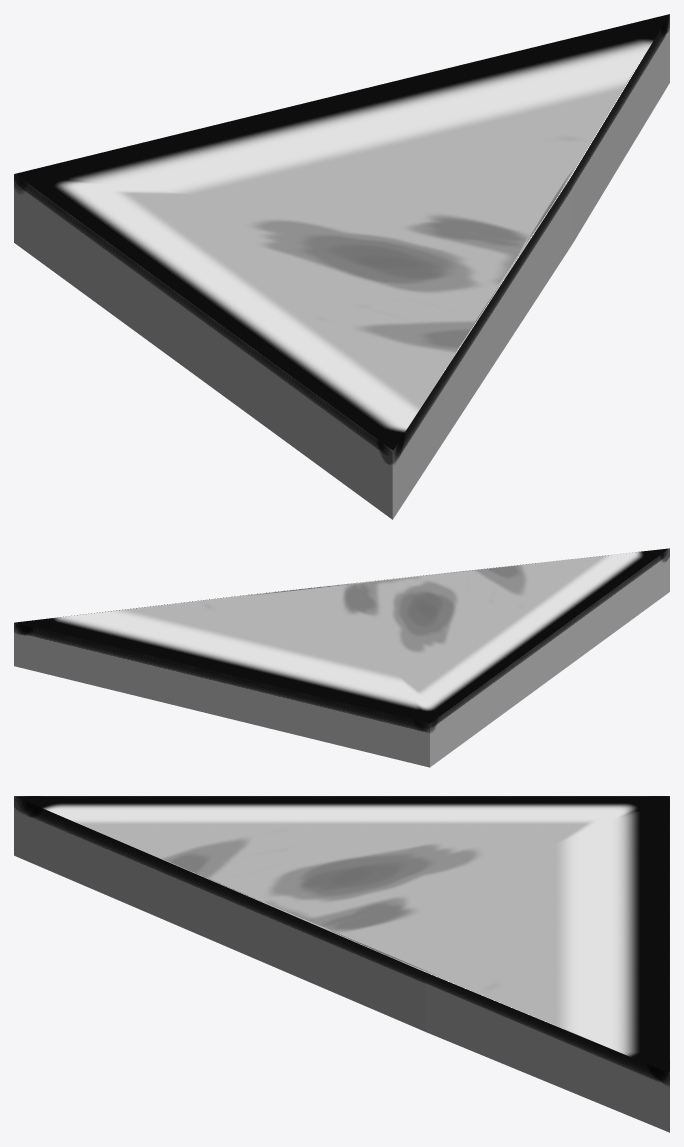
The model's file is TriangularGround3Text.fbx.
3 views of the same model, one above another, from view 1: azimuth 30°, elevation 25°; view 2: azimuth 150°, elevation 25°; view 3: azimuth 270°, elevation 25° (orthographic). The views are drawn at different scales.
Visible parts, largest first — view 1: pCube3; view 2: pCube3; view 3: pCube3.
Part boxes in pixels (box(x1,y1,x2,y2)): pCube3: box(14, 14, 669, 519); pCube3: box(14, 548, 669, 767); pCube3: box(14, 796, 669, 1132).
Size of the model in its own units: 2.5 by 0.25 by 2.5.
Materials: 1 (1 with a texture image).
